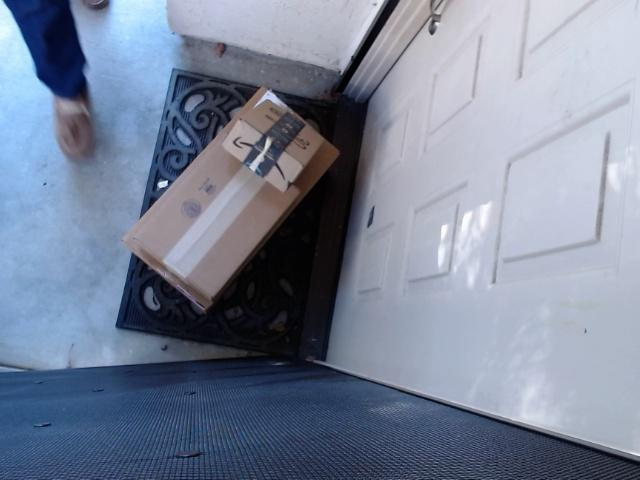box: (132, 86, 327, 332), (215, 91, 339, 203)
